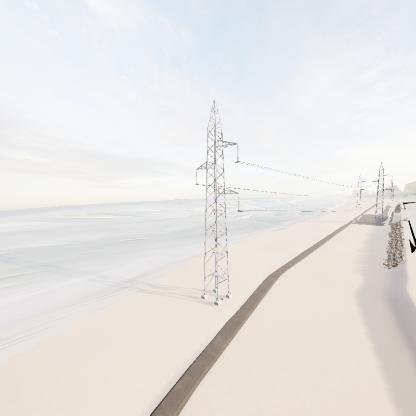tower: (190, 95, 243, 307)
